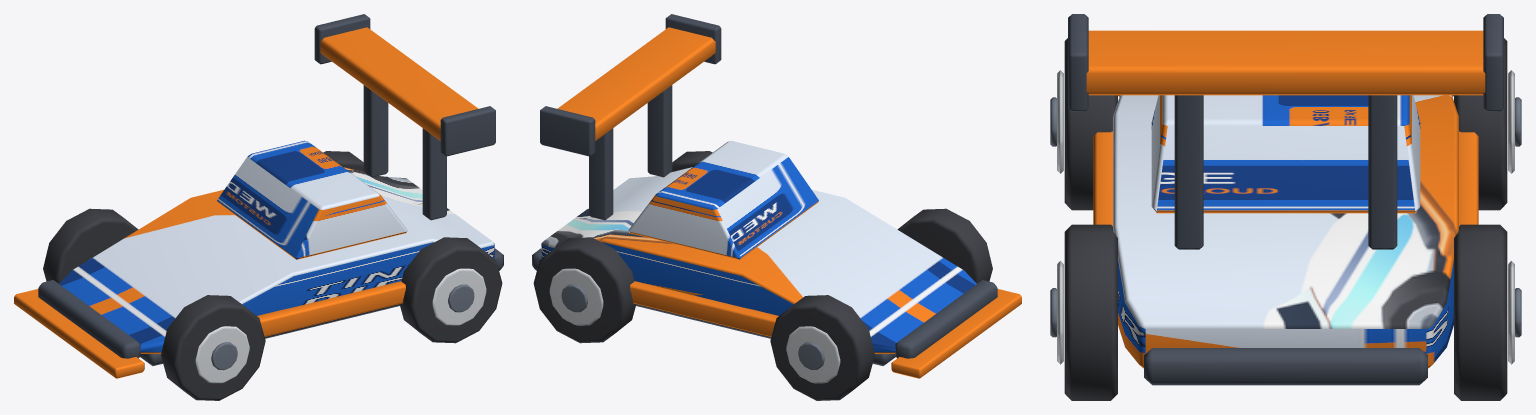
3 views of the same model, side by side, from view 1: azimuth 30°, elevation 25°; view 2: azimuth 150°, elevation 25°; view 3: azimuth 270°, elevation 25° (orthographic). The views are drawn at different scales.
Parts seen in each view (by area): view 1: TC-02_connected_shell, TC-02_cabin, rear airfoil, Tire, Tire.002, Tire.001, custom side guard, custom chin, front bumper, wing endplate, wing support.001, wing support (+7 smaller); view 2: TC-02_connected_shell, TC-02_cabin, rear airfoil, Tire.001, Tire.003, Tire, custom side guard.001, custom chin, front bumper, wing endplate.001, wing support, wing support.001 (+7 smaller); view 3: TC-02_connected_shell, rear airfoil, TC-02_cabin, rear bumper, Tire.002, Tire.003, wing support, wing support.001, Tire, Tire.001, wing endplate, wing endplate.001 (+6 smaller).
Boxes of the visible parts, left/top/right/bottom form: TC-02_connected_shell: left=59, top=167, right=494, bottom=353; TC-02_cabin: left=217, top=140, right=407, bottom=259; rear airfoil: left=320, top=27, right=478, bottom=140; Tire: left=161, top=295, right=265, bottom=400; Tire.002: left=399, top=237, right=502, bottom=343; Tire.001: left=43, top=208, right=138, bottom=283; custom side guard: left=257, top=281, right=405, bottom=336; custom chin: left=14, top=289, right=144, bottom=378; front bumper: left=38, top=280, right=140, bottom=358; wing endplate: left=440, top=106, right=495, bottom=156; wing support.001: left=363, top=85, right=388, bottom=177; wing support: left=422, top=128, right=446, bottom=220; TC-02_connected_shell: left=541, top=167, right=976, bottom=353; TC-02_cabin: left=628, top=140, right=818, bottom=259; rear airfoil: left=557, top=27, right=715, bottom=140; Tire.001: left=770, top=295, right=874, bottom=400; Tire.003: left=533, top=237, right=636, bottom=343; Tire: left=897, top=208, right=992, bottom=283; custom side guard.001: left=630, top=281, right=778, bottom=336; custom chin: left=891, top=289, right=1021, bottom=378; front bumper: left=895, top=280, right=997, bottom=358; wing endplate.001: left=540, top=106, right=595, bottom=156; wing support: left=647, top=85, right=672, bottom=177; wing support.001: left=589, top=128, right=613, bottom=220; TC-02_connected_shell: left=1113, top=95, right=1458, bottom=368; rear airfoil: left=1086, top=30, right=1485, bottom=95; TC-02_cabin: left=1151, top=95, right=1420, bottom=213; rear bumper: left=1144, top=348, right=1427, bottom=385; Tire.002: left=1064, top=224, right=1117, bottom=400; Tire.003: left=1454, top=224, right=1507, bottom=400; wing support: left=1174, top=95, right=1203, bottom=249; wing support.001: left=1368, top=95, right=1397, bottom=249; Tire: left=1064, top=38, right=1117, bottom=210; Tire.001: left=1454, top=38, right=1507, bottom=210; wing endplate: left=1068, top=14, right=1088, bottom=111; wing endplate.001: left=1483, top=14, right=1503, bottom=111.
Size of the model in its own units: 369 by 199 by 229.
